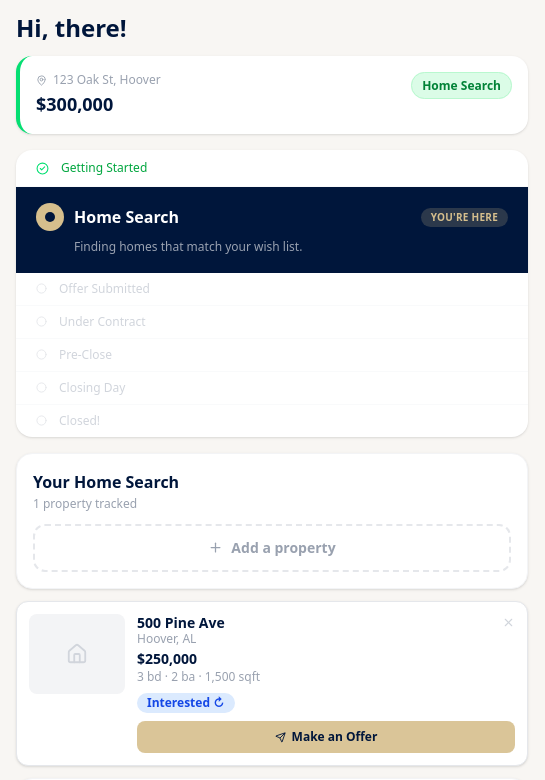
ActiveSearchCard — Make an Offer (#168) › shows an error (not fake success) when the offer request fails
Step 1. Click the button "Make an Offer" → (326, 737), box x1=137 y1=721 x2=515 y2=753
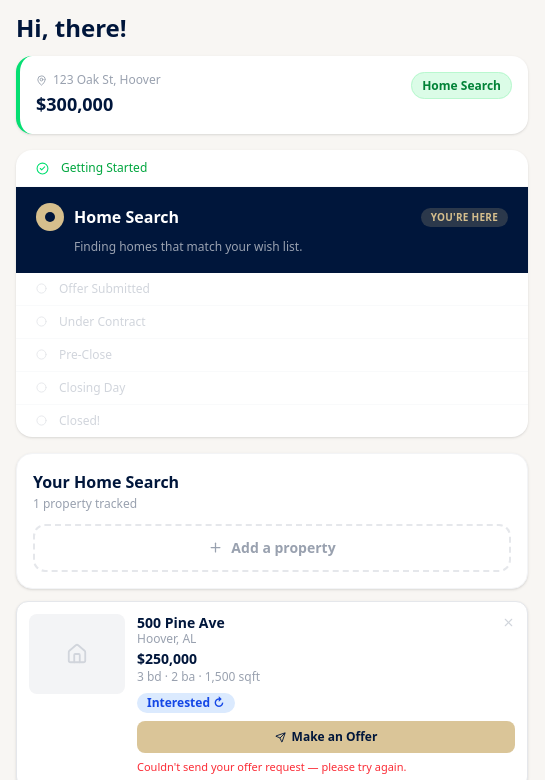
Expected: the text "Couldn't send your offer request — please try again." is shown, x1=137 y1=759 x2=406 y2=774
